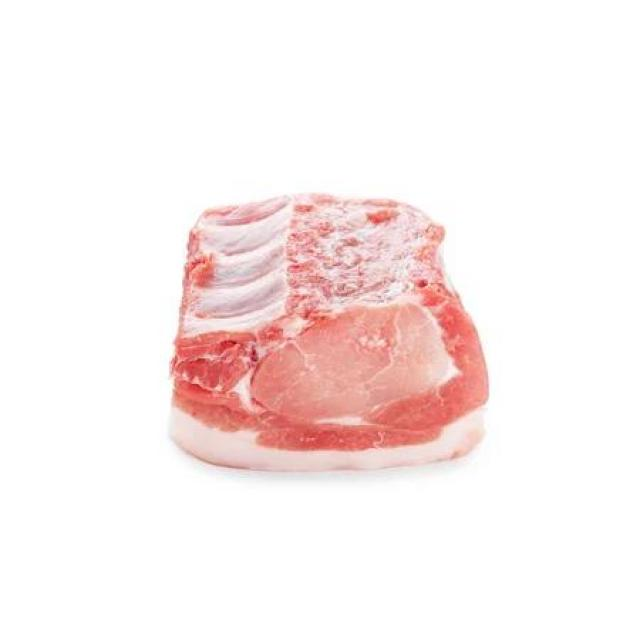Pork: (171, 202, 488, 474)
